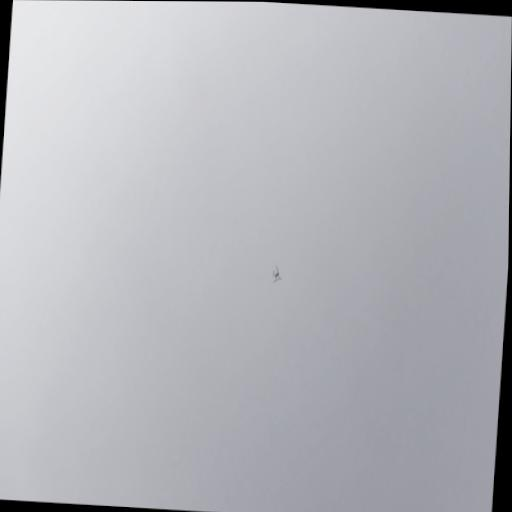drones: (271, 264, 283, 286)
